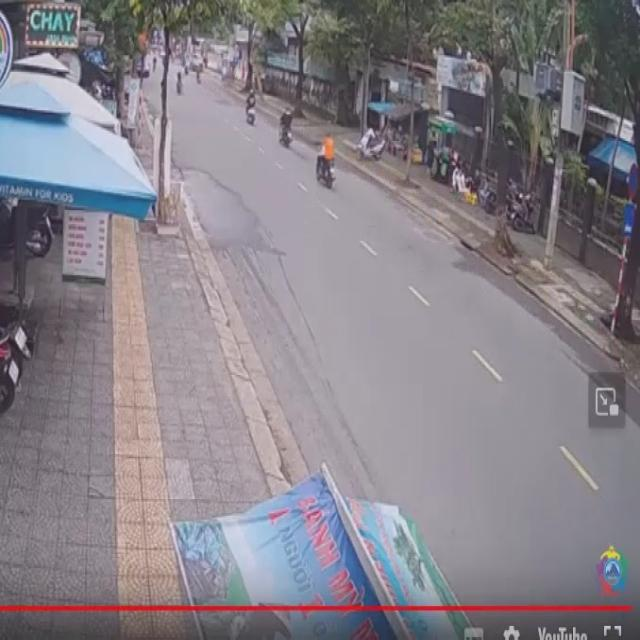motorbike: (274, 104, 296, 148), (316, 139, 332, 193)
